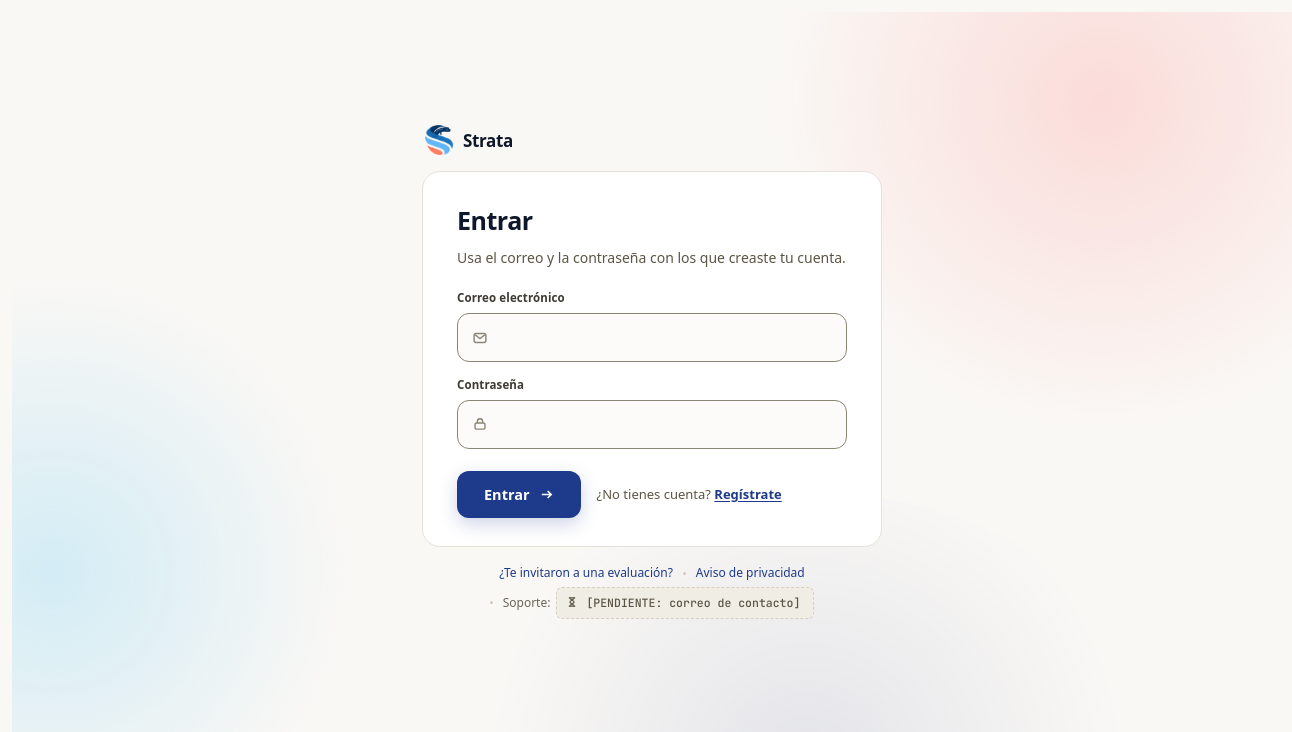
Test: Login › sin ruta de origen va a /app con empresa
Type "ana@empresa.mx" into the field labelled "Correo electrónico" at x=667, y=338, box [488, 314, 846, 361]
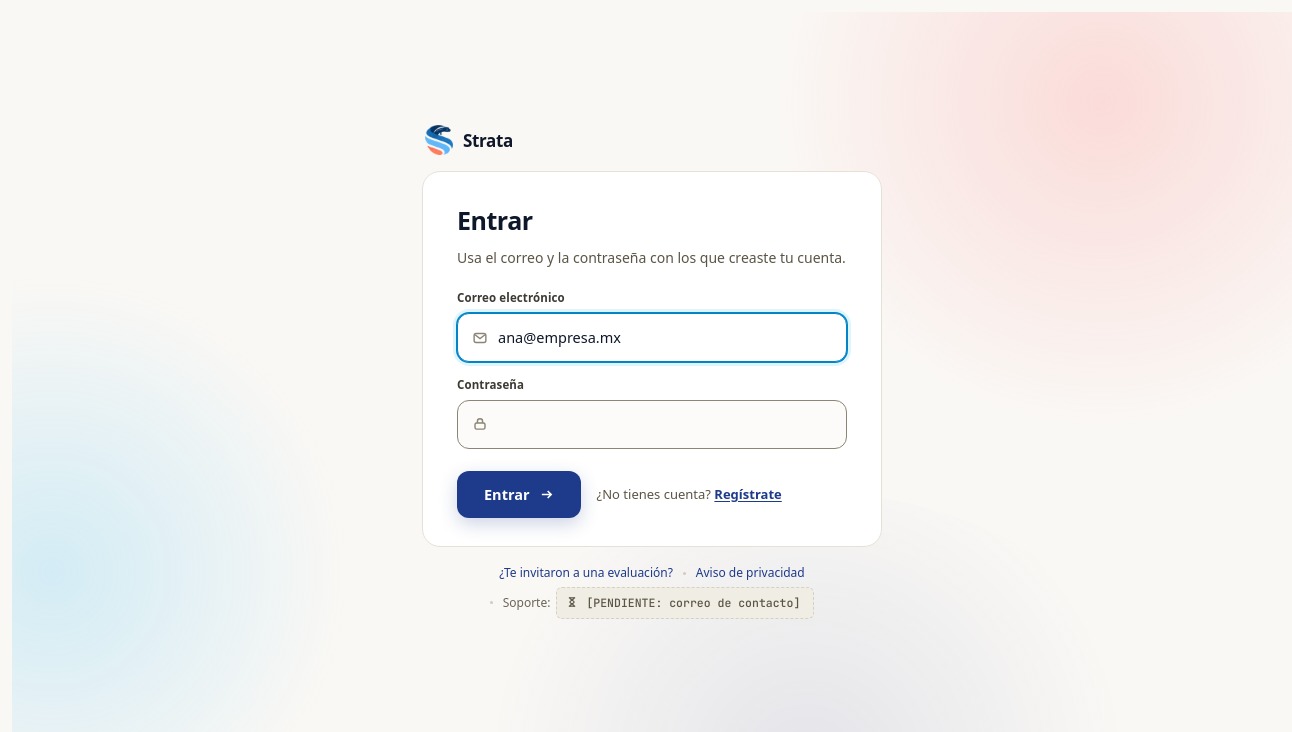
Type "secreta123" into the password field labelled "Contraseña" at x=667, y=424, box [488, 401, 846, 448]
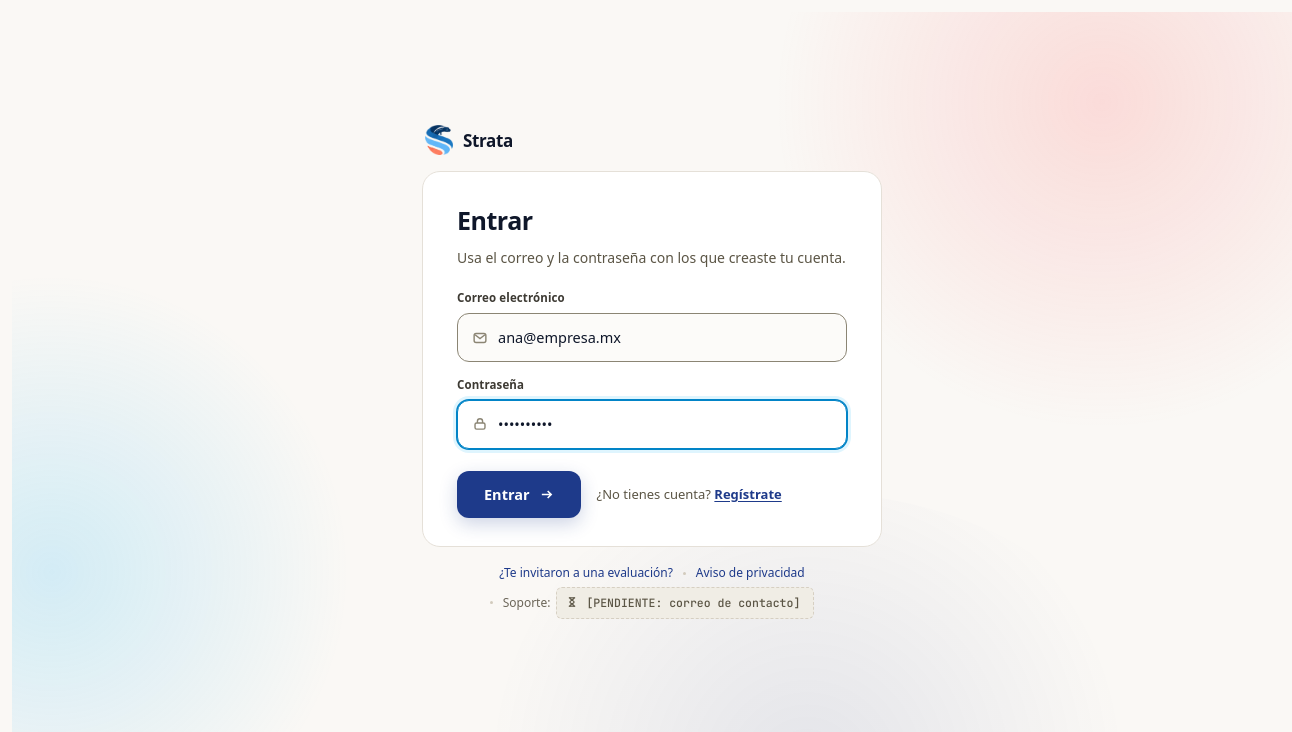
Click the button "Entrar" at x=519, y=495, box [457, 471, 581, 518]
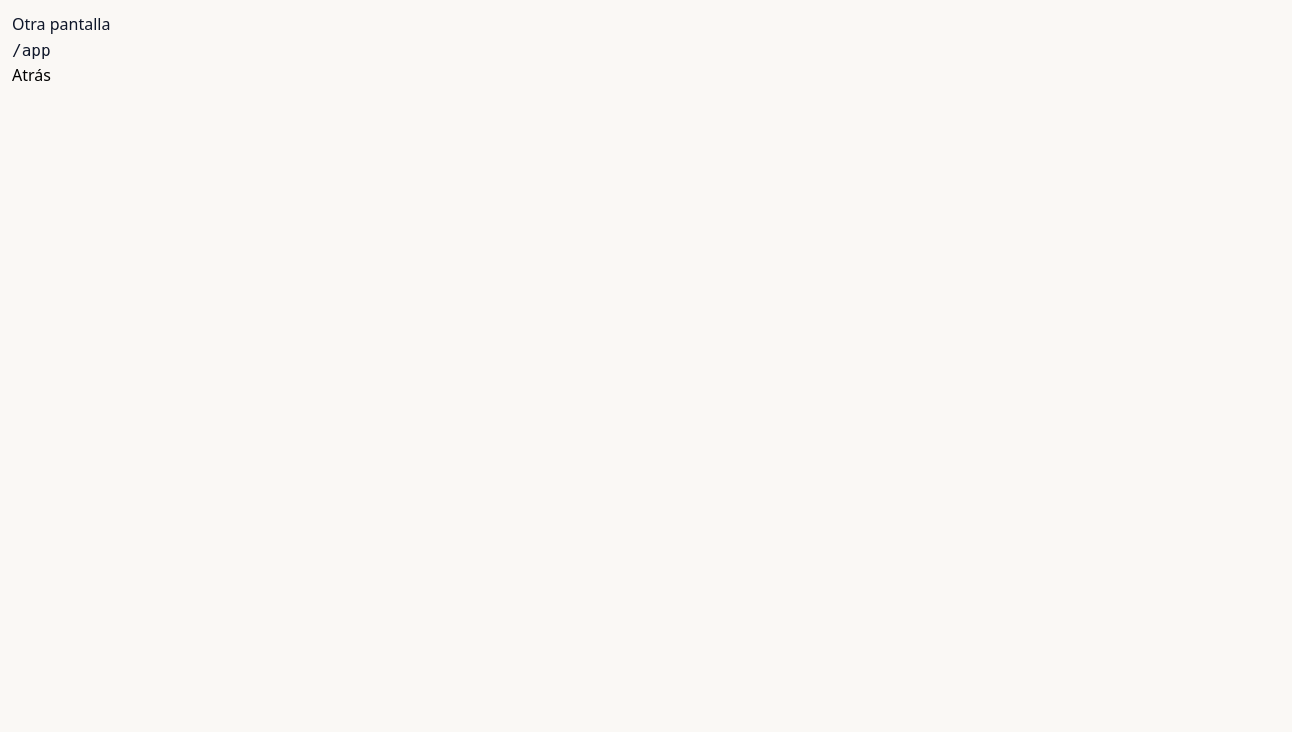
Result: the text "Otra pantalla" is shown at [12, 13, 110, 35]
Result: the text with test id "ubicacion" reads "/app" at [12, 41, 50, 60]
